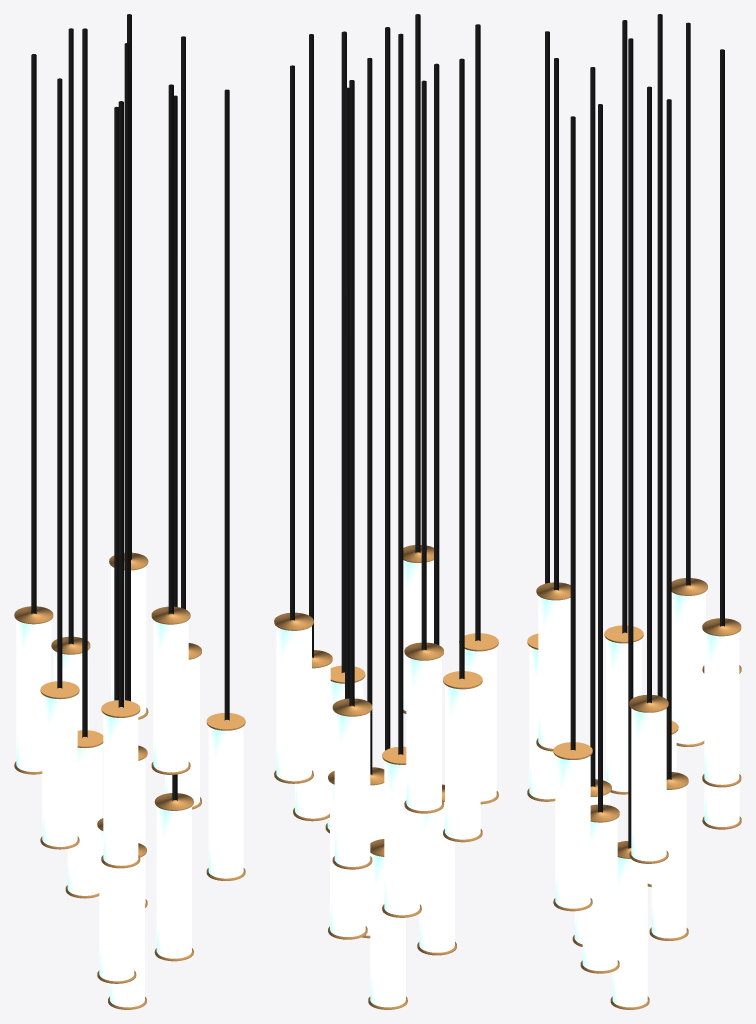
Rendered from Chandelier LOW POLY.glb.
3 renders of one model, left to right at view 1: azimuth 30°, elevation 25°; view 2: azimuth 150°, elevation 25°; view 3: azimuth 270°, elevation 25°, orthographic.
Parts seen in each view (by area): view 1: Cylinder.023; view 2: Cylinder.023; view 3: Cylinder.023.
Part boxes in pixels (x1,y1,x2,y2): Cylinder.023: (14, 14, 245, 1009); Cylinder.023: (274, 14, 498, 1009); Cylinder.023: (527, 14, 741, 1009).
Size of the model in its own units: 0.7263 by 3.85 by 0.7686.
